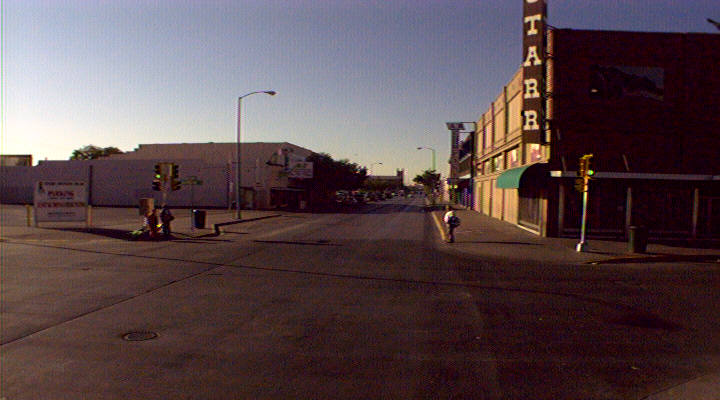Ramp: (438, 236, 613, 266), (3, 233, 139, 252)
